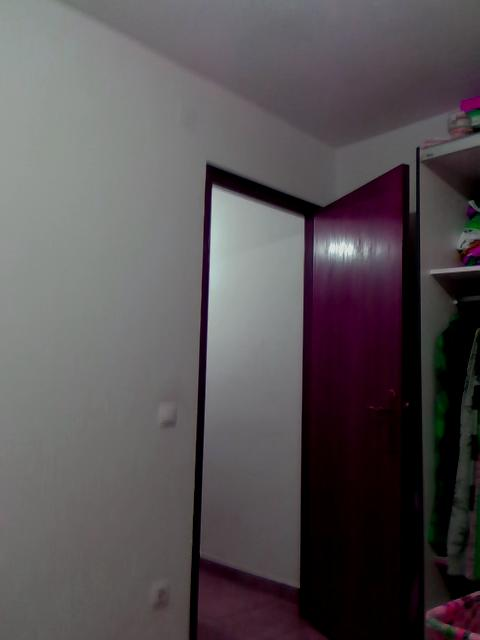open_door: (189, 160, 332, 639)
